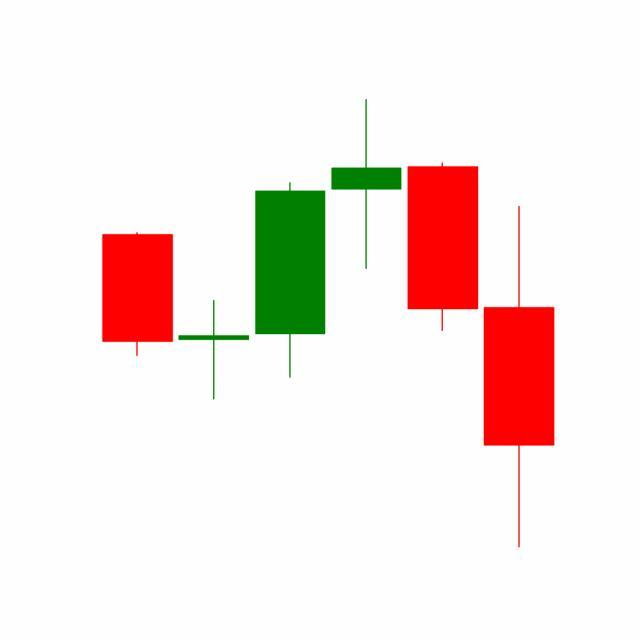Evening Star: (252, 99, 482, 382)
